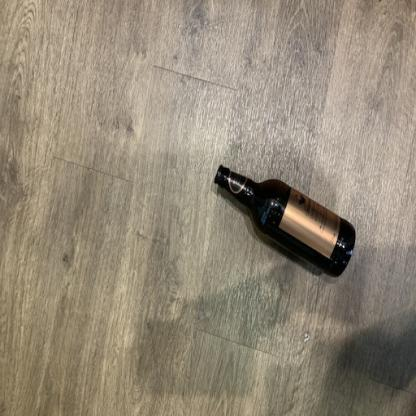trash: (210, 162, 361, 278)
